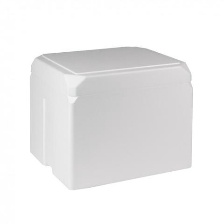foam_box: (23, 41, 199, 193)
